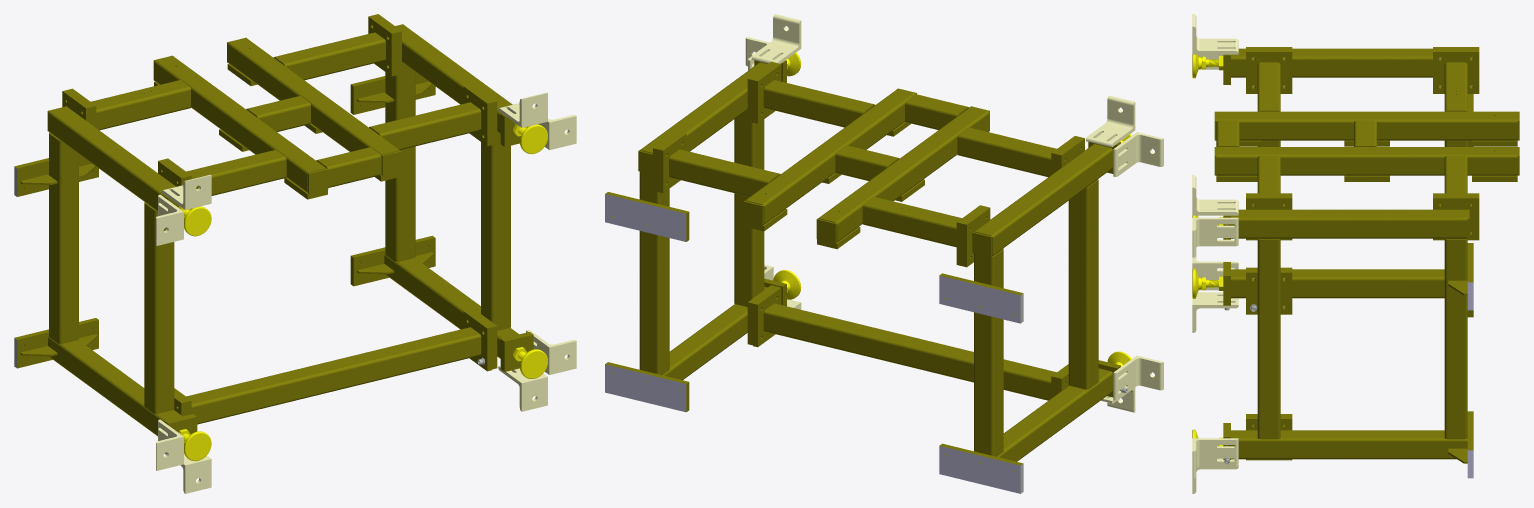
Rendered from LoadStationFrame-transformed.glb.
3 views of the same model, side by side, from view 1: azimuth 30°, elevation 25°; view 2: azimuth 150°, elevation 25°; view 3: azimuth 270°, elevation 25° (orthographic).
Parts seen in each view (by area): view 1: AP727101290_Default<As Machined>024; view 2: AP727101290_Default<As Machined>024; view 3: AP727101290_Default<As Machined>024.
Part boxes in pixels (box(x1,y1,x2,y2)): AP727101290_Default<As Machined>024: box(14, 14, 576, 493); AP727101290_Default<As Machined>024: box(605, 14, 1163, 493); AP727101290_Default<As Machined>024: box(1192, 14, 1519, 493).
Size of the model in its own units: 1.56 by 1.11 by 1.08.
Materials: 1 (1 with a texture image).
